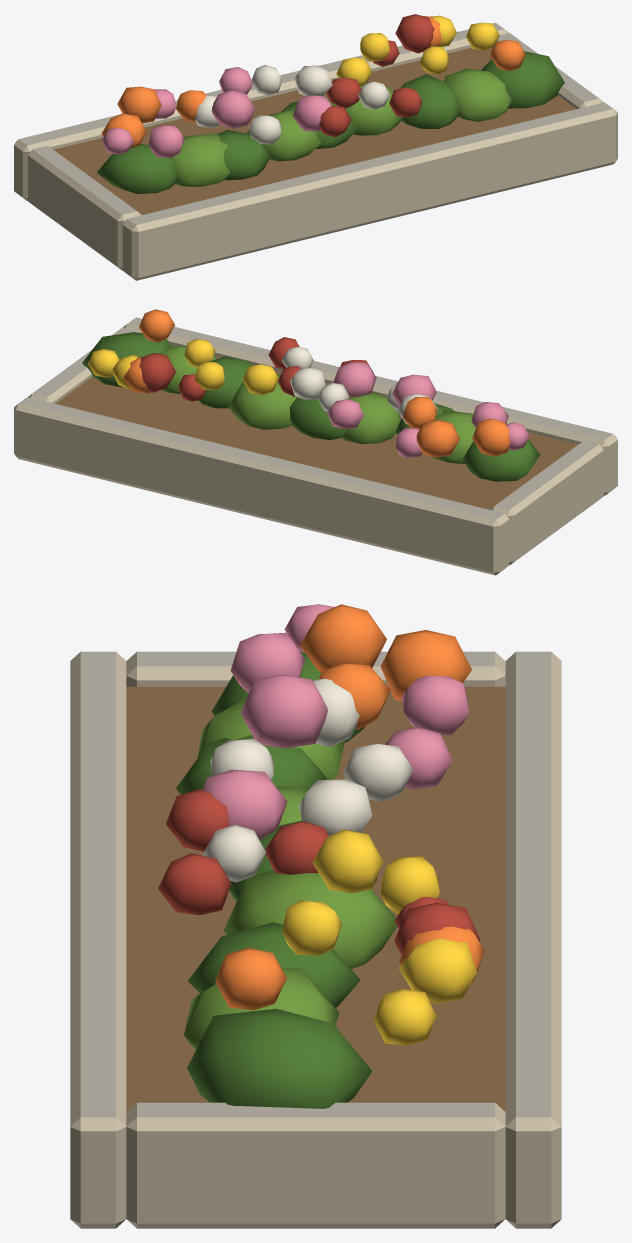
Rendered from plaza_flowerbed.glb.
3 renders of one model, top to bottom at view 1: azimuth 30°, elevation 25°; view 2: azimuth 150°, elevation 25°; view 3: azimuth 270°, elevation 25°, orthographic. The views are drawn at different scales.
Parts seen in each view (by area): view 1: LOD0; view 2: LOD0; view 3: LOD0.
Boxes of the visible parts, <box> form: LOD0: <box>14,14,617,280</box>; LOD0: <box>14,309,617,575</box>; LOD0: <box>70,604,561,1228</box>.
Size of the model in its own units: 3.2 by 0.7246 by 1.4.
Materials: 1 (1 with a texture image).
